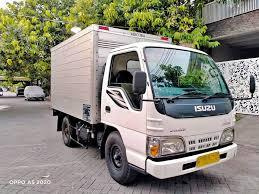truck: (92, 33, 259, 186)
